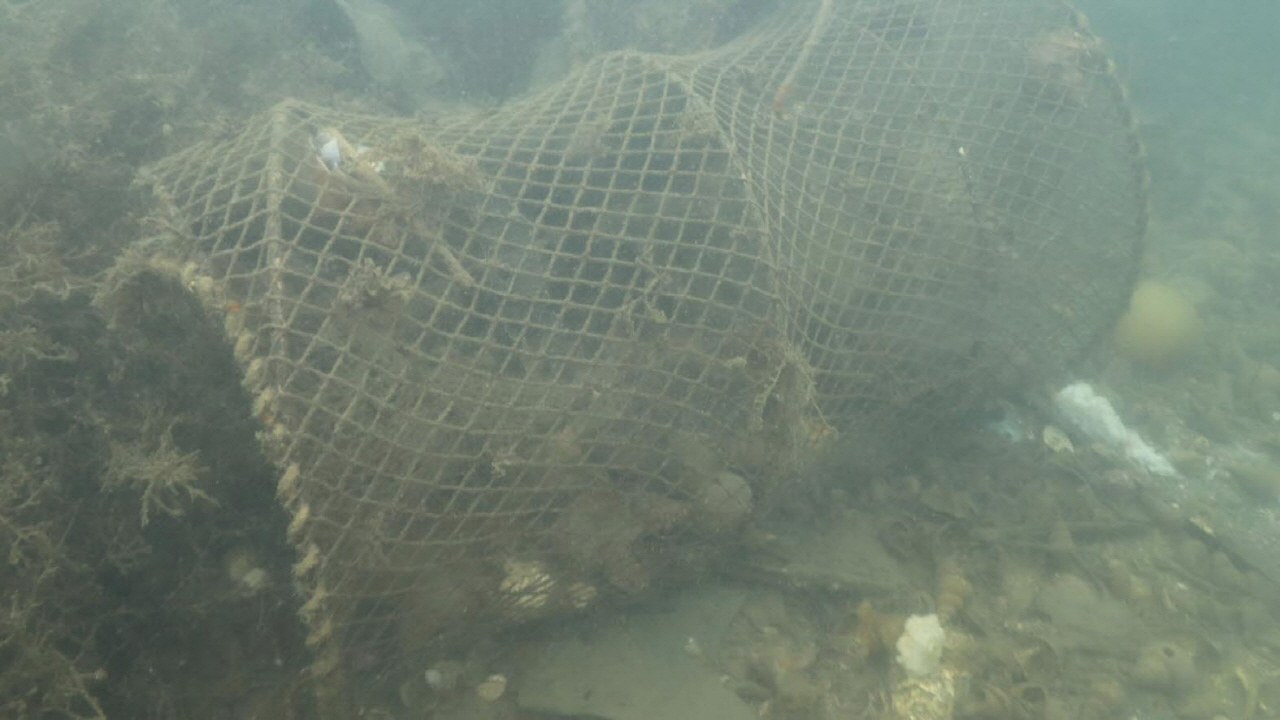spring fish trap: (129, 0, 1154, 720)
